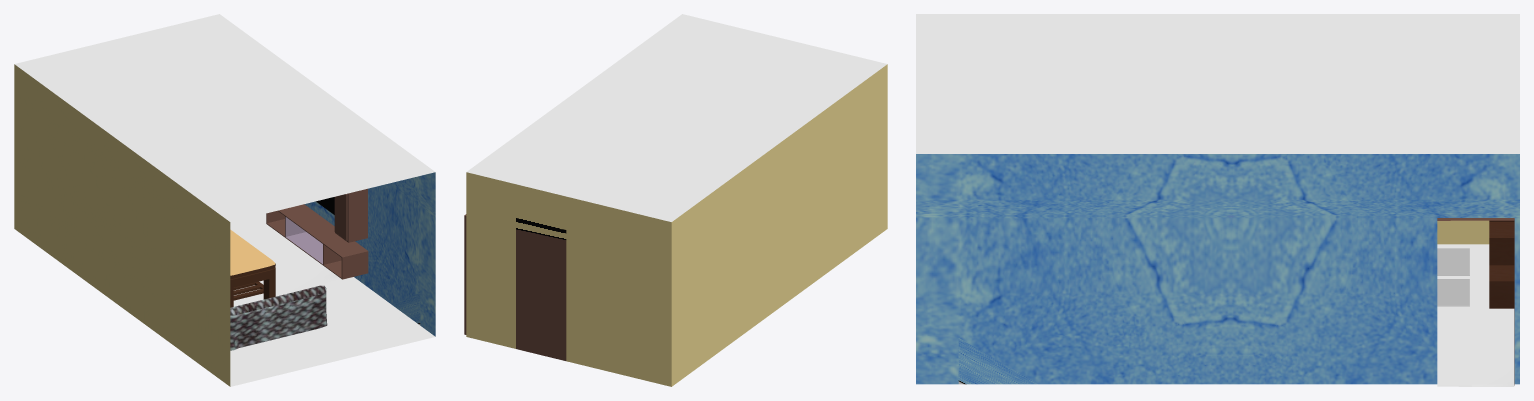
The model's file is hall.fbx.
3 renders of one model, left to right at view 1: azimuth 30°, elevation 25°; view 2: azimuth 150°, elevation 25°; view 3: azimuth 270°, elevation 25°, orthographic. The views are drawn at different scales.
Parts seen in each view (by area): view 1: hall, tv_cabinet, sofa.001, coffe_table; view 2: hall; view 3: hall, shoe_rack, rug.01, rug.
Part boxes in pixels (x1,y1,x2,y2): hall: [14, 14, 435, 386]; tv_cabinet: [266, 188, 368, 279]; sofa.001: [230, 285, 327, 350]; coffe_table: [230, 229, 275, 307]; hall: [464, 14, 887, 386]; hall: [916, 14, 1519, 386]; shoe_rack: [1489, 220, 1514, 308]; rug.01: [1437, 248, 1469, 275]; rug: [1437, 279, 1469, 306].
Bounding box in the file's own units: 304 × 229 × 543.
